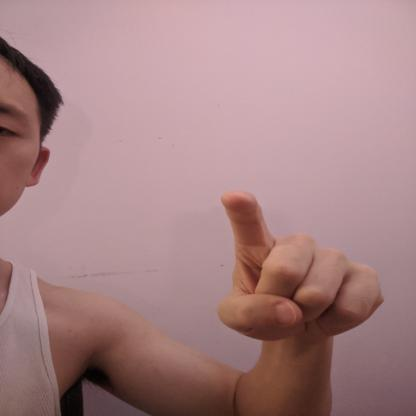Z: (212, 187, 387, 344)
